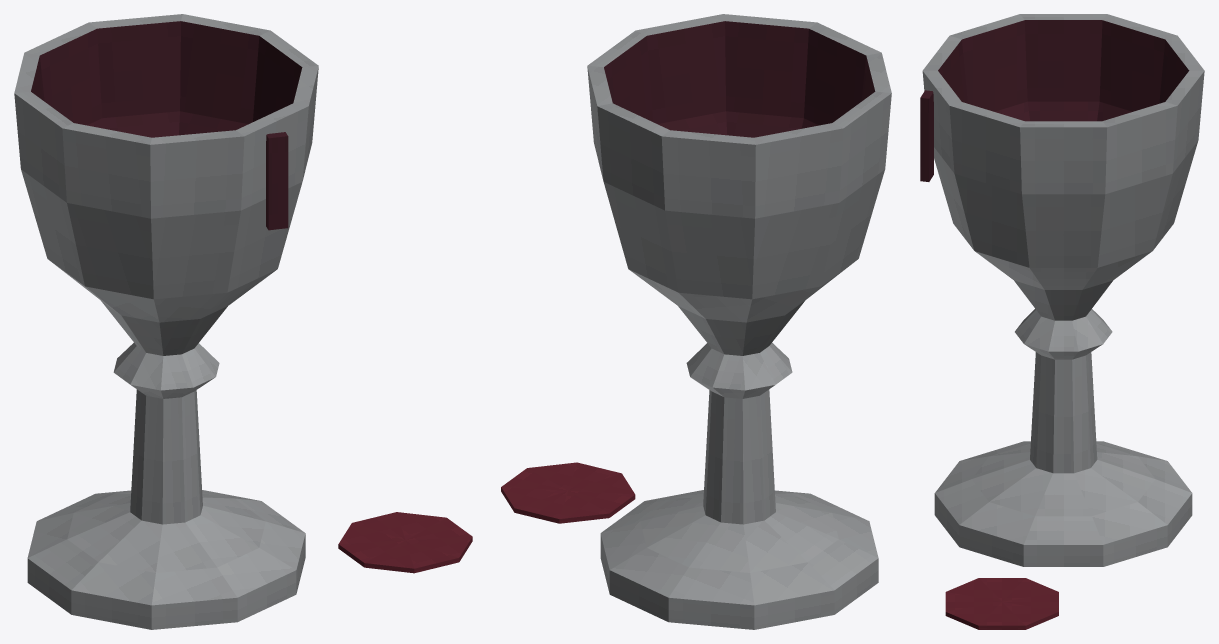
File: goblet-poisoned.glb
3 renders of one model, left to right at view 1: azimuth 30°, elevation 25°; view 2: azimuth 150°, elevation 25°; view 3: azimuth 270°, elevation 25°, orthographic. The views are drawn at different scales.
Parts seen in each view (by area): view 1: goblet-poisoned.001; view 2: goblet-poisoned.001; view 3: goblet-poisoned.001.
Boxes of the visible parts, x1,y1,x2,y2 form: goblet-poisoned.001: (14, 14, 472, 629); goblet-poisoned.001: (501, 14, 891, 629); goblet-poisoned.001: (920, 14, 1204, 629).
Size of the model in its own units: 0.1322 by 0.16 by 0.0927.
Materials: 1 (1 with a texture image).
